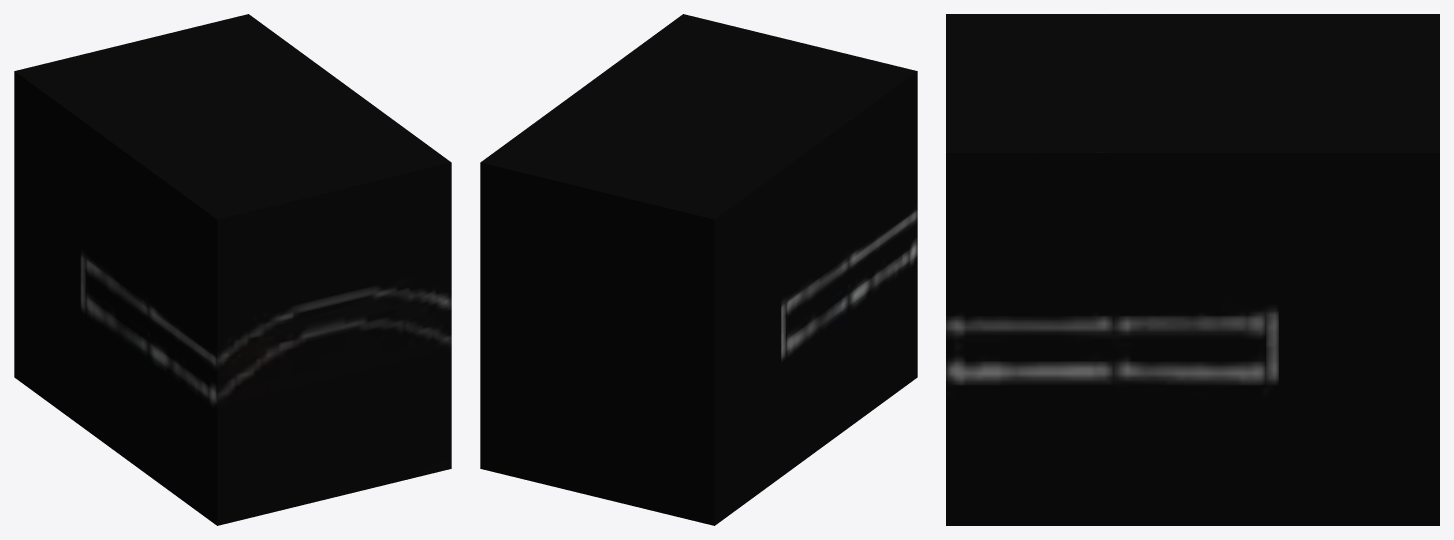
Rendered from body__gauge_mount.glb.
The picture shows the model from 3 angles, left to right: view 1: azimuth 30°, elevation 25°; view 2: azimuth 150°, elevation 25°; view 3: azimuth 270°, elevation 25°; orthographic projection. The views are drawn at different scales.
Parts seen in each view (by area): view 1: geometry_0; view 2: geometry_0; view 3: geometry_0.
Part boxes in pixels (x1=…): geometry_0: x1=14, y1=14, x2=451, y2=525; geometry_0: x1=480, y1=14, x2=917, y2=525; geometry_0: x1=946, y1=14, x2=1439, y2=525.
Bounding box in the file's own units: 0.04 × 0.05 × 0.06.
Materials: 1 (1 with a texture image).
